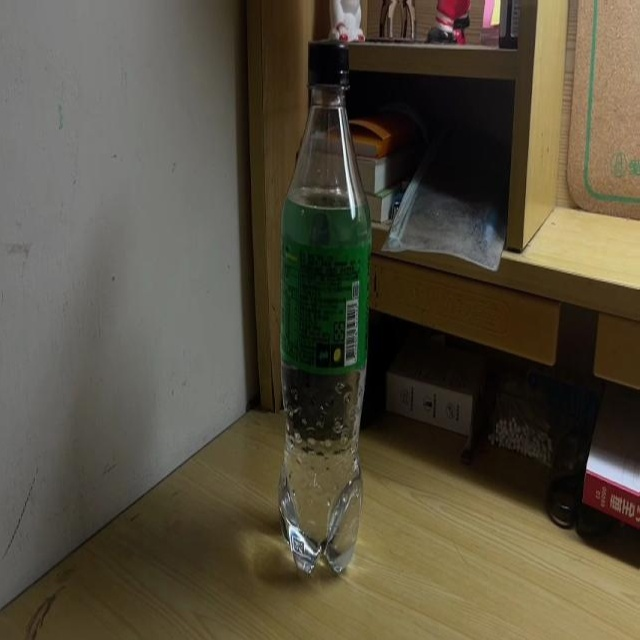Sprite: (282, 38, 370, 580)
